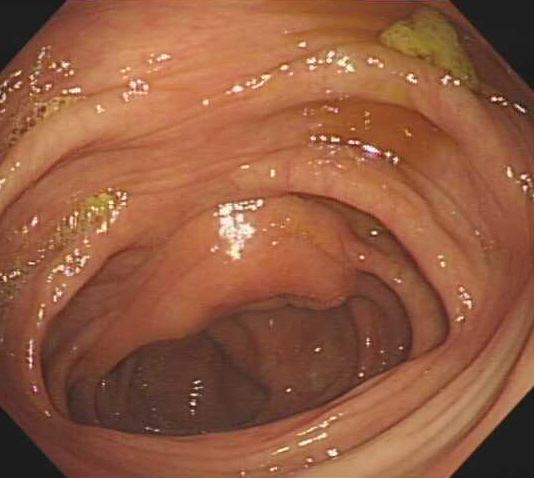others: (147, 226, 355, 341)
